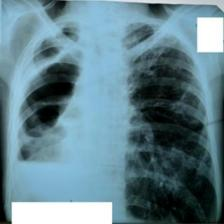tuberculosis: (1, 19, 223, 224)
